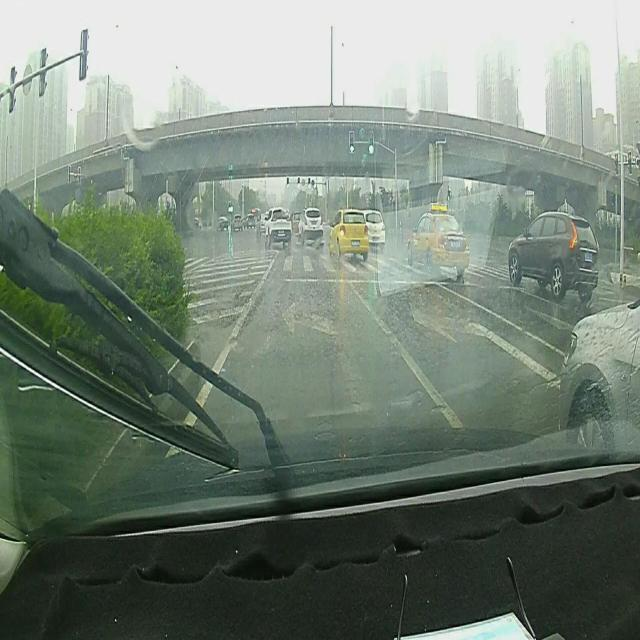car: (560, 304, 638, 459), (507, 212, 595, 300), (407, 198, 469, 278), (327, 208, 369, 256), (297, 208, 323, 243), (264, 208, 290, 242), (365, 208, 385, 252)
